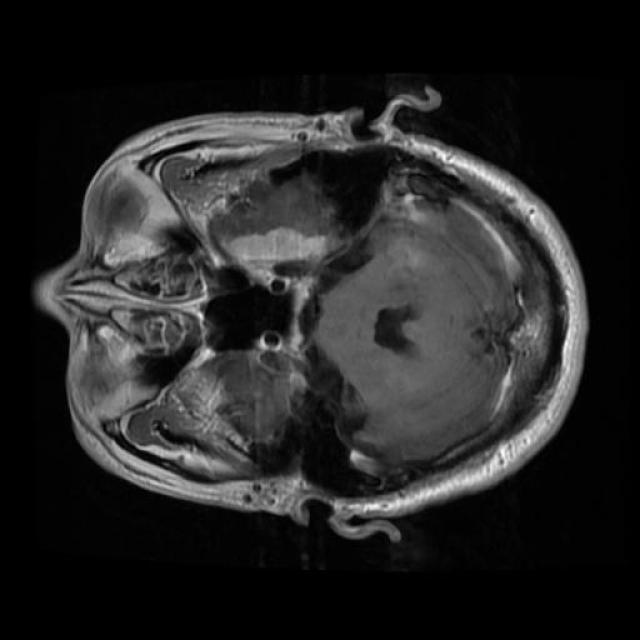Meningioma: (218, 226, 341, 290)
